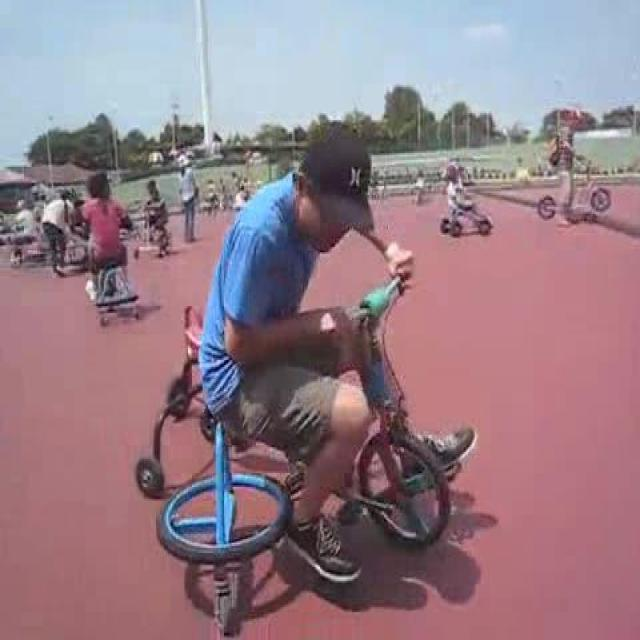other: (172, 294, 220, 365)
